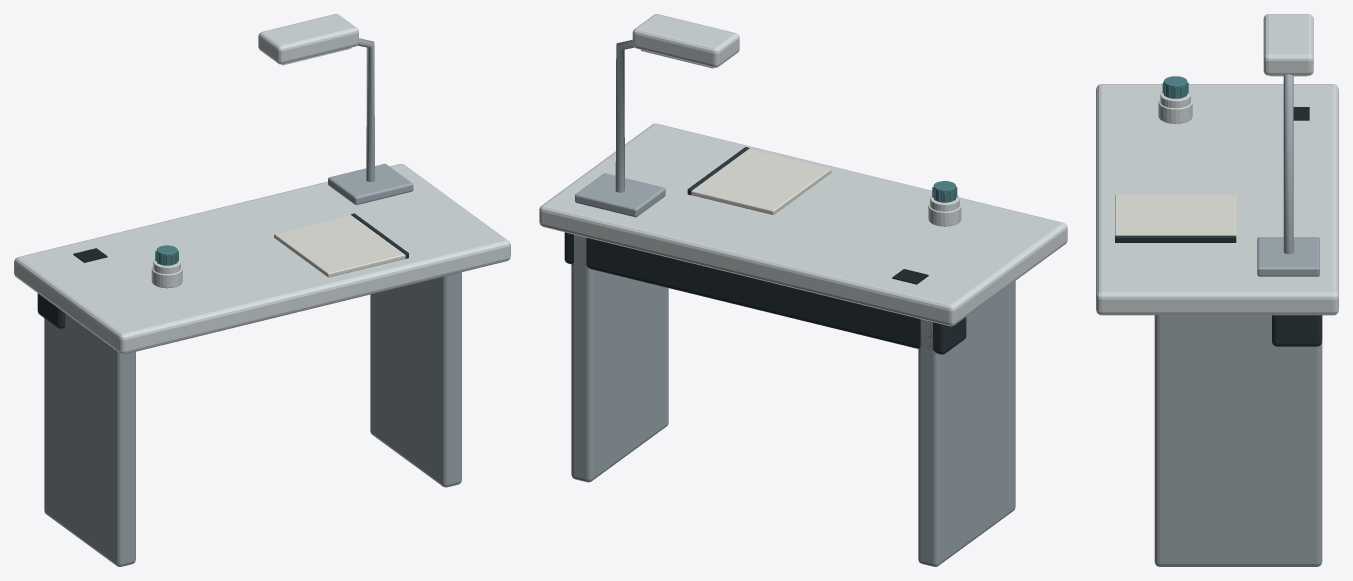
Rendered from SF_LivingDesk.fbx.
3 views of the same model, side by side, from view 1: azimuth 30°, elevation 25°; view 2: azimuth 150°, elevation 25°; view 3: azimuth 270°, elevation 25° (orthographic). The views are drawn at different scales.
Parts seen in each view (by area): view 1: SF_LivingDesk; view 2: SF_LivingDesk; view 3: SF_LivingDesk.
Part boxes in pixels (<box>): SF_LivingDesk: <box>14,14,510,566</box>; SF_LivingDesk: <box>539,14,1067,566</box>; SF_LivingDesk: <box>1096,14,1338,566</box>.
Size of the model in its own units: 120 by 127 by 58.
